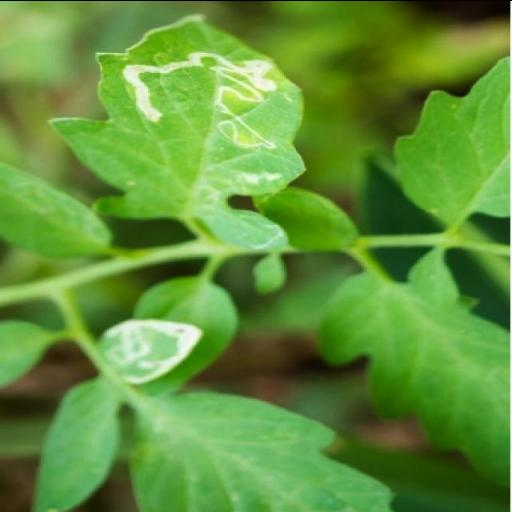disease_tomato: (48, 14, 310, 250), (92, 316, 208, 382)
